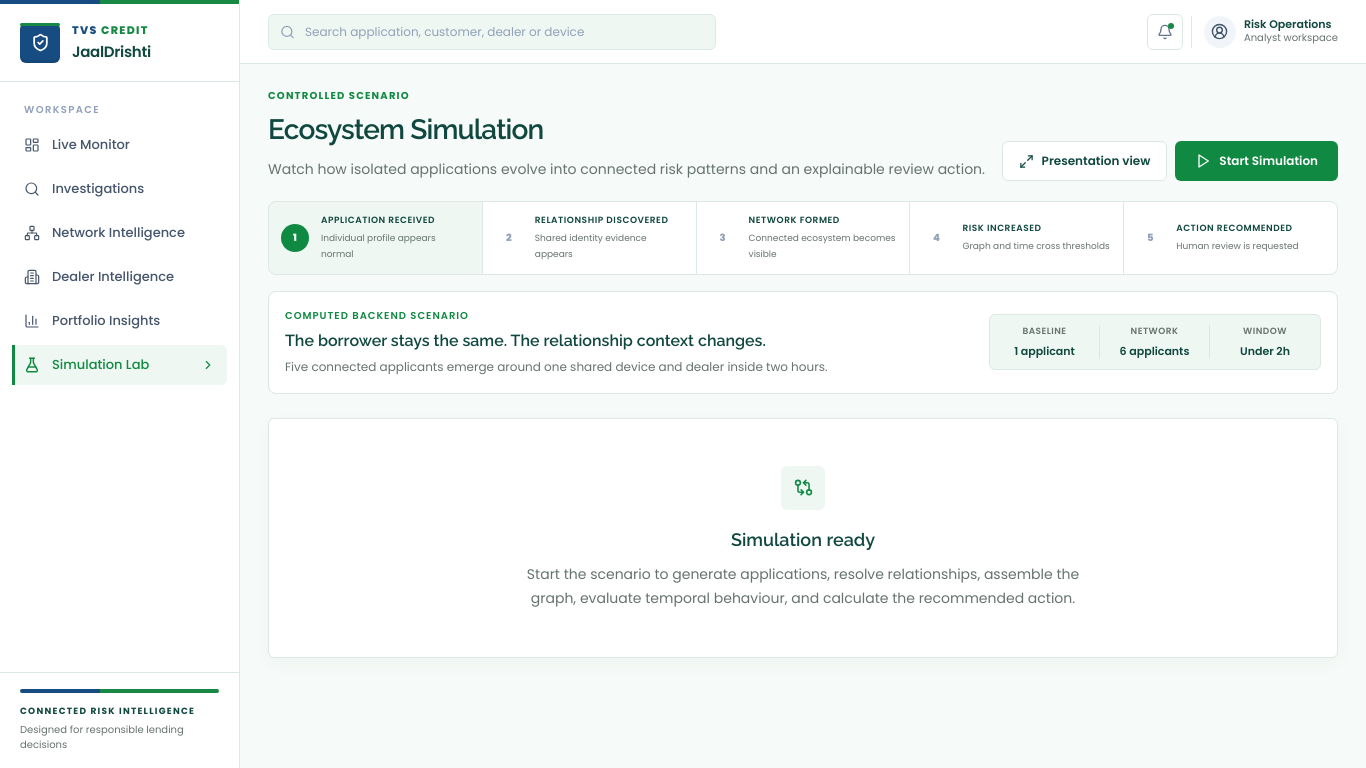
Test: emerging-risk demo › offers a distraction-free presentation view
The image size is (1366, 768).
Step 1. Click the button "Presentation view" → coordinates (1084, 161), box [1002, 141, 1167, 181]
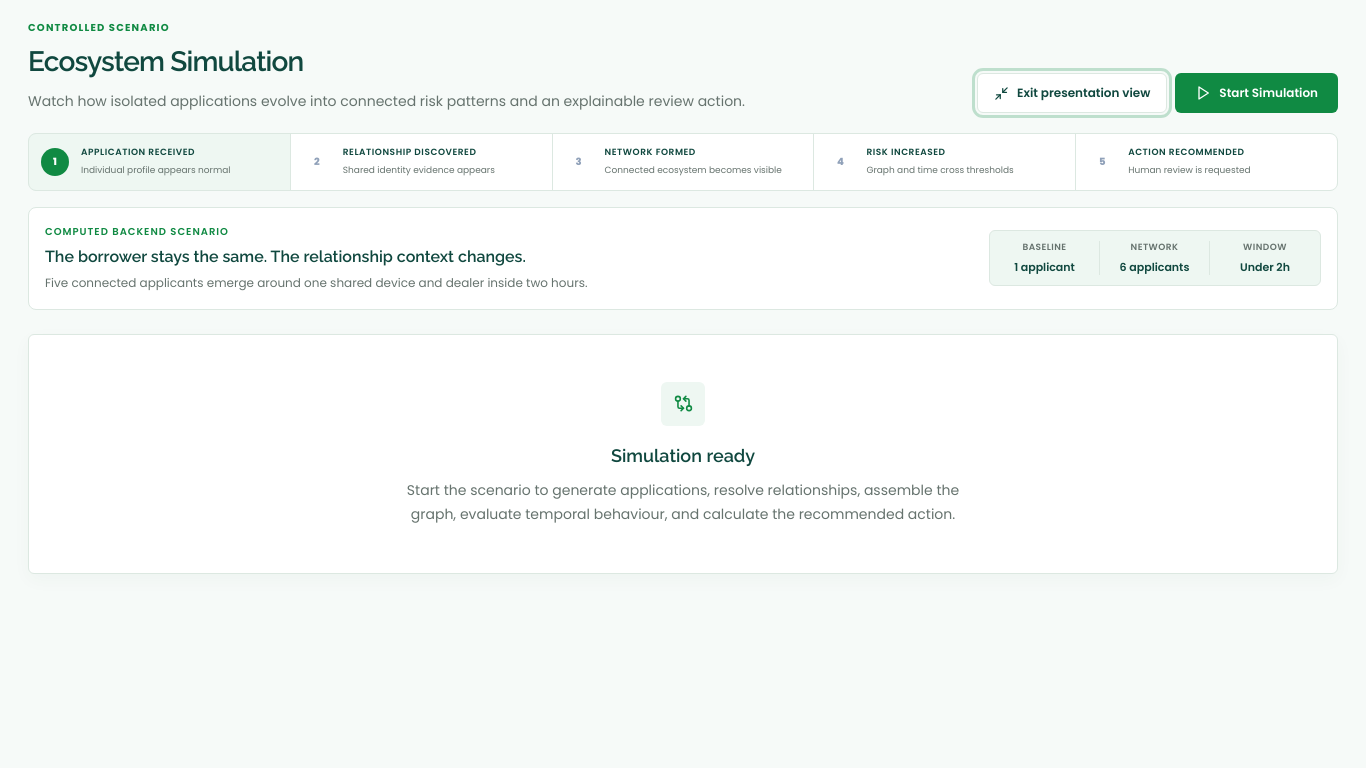
Check: the button "Exit presentation view" is shown, box [977, 73, 1167, 113]
